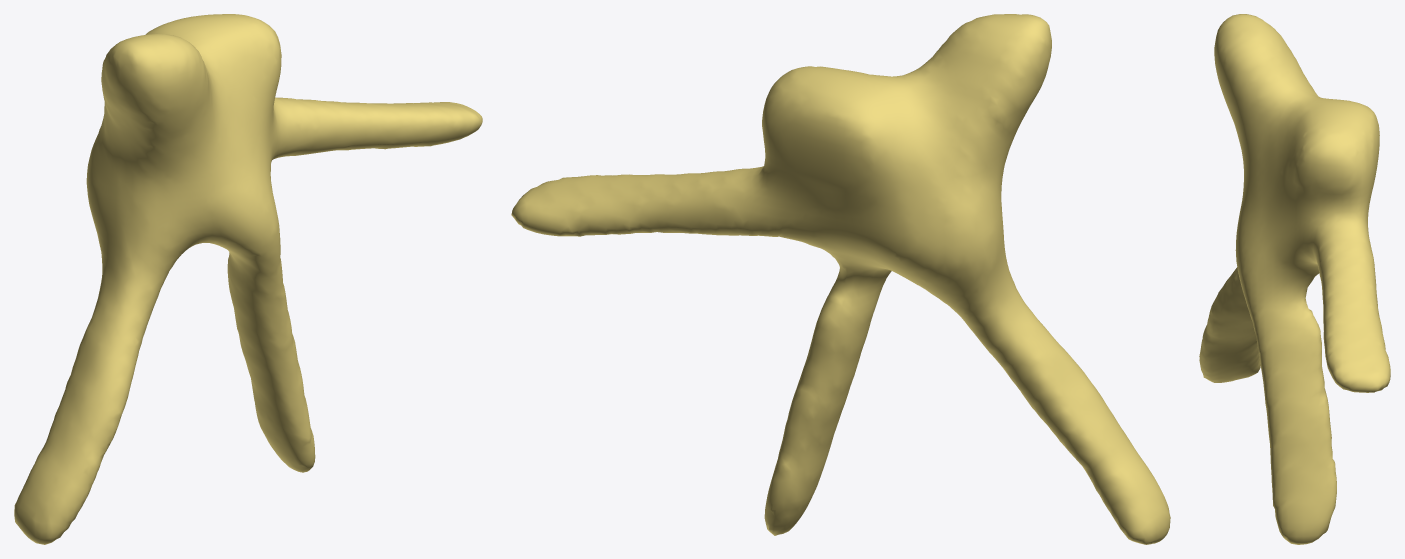
The picture shows the model from 3 angles, left to right: view 1: azimuth 30°, elevation 25°; view 2: azimuth 150°, elevation 25°; view 3: azimuth 270°, elevation 25°; orthographic projection. The views are drawn at different scales.
Parts seen in each view (by area): view 1: output_frame_0001; view 2: output_frame_0001; view 3: output_frame_0001.
Boxes of the visible parts, x1,y1,x2,y2 form: output_frame_0001: [14, 14, 482, 544]; output_frame_0001: [511, 14, 1170, 544]; output_frame_0001: [1199, 14, 1390, 544].
Size of what is drawn, in the model's own units: 1 by 0.9096 by 0.3559.
